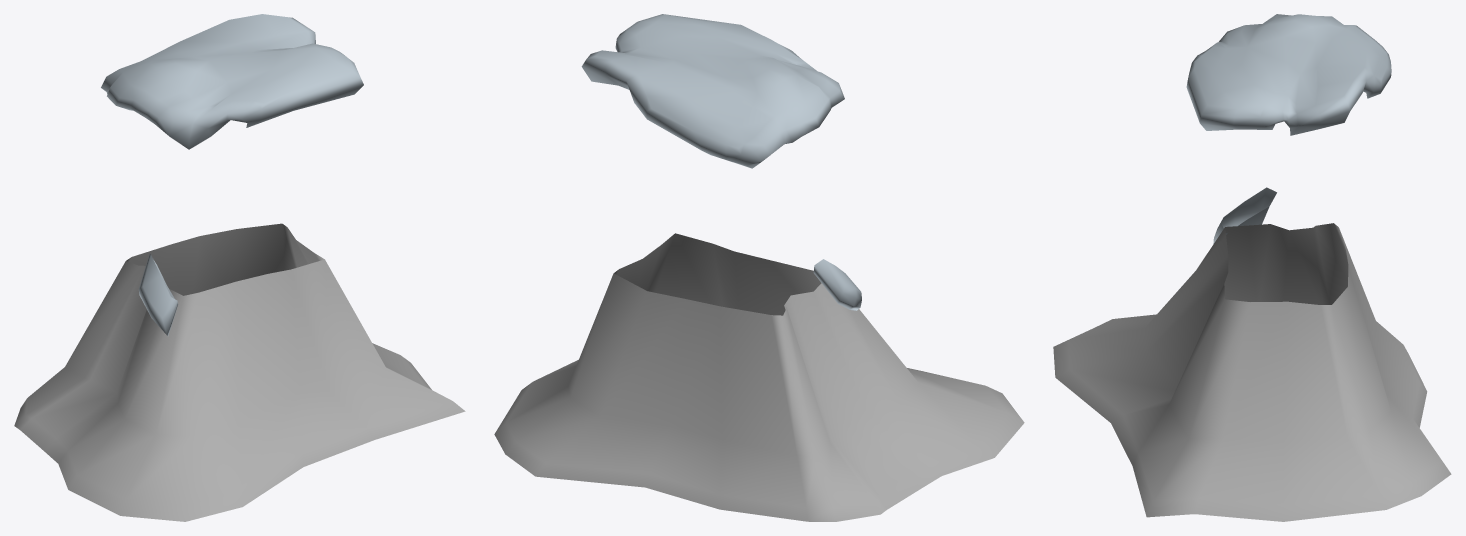
File: Rock_set_01_Model_2_Snow.fbx
The picture shows the model from 3 angles, left to right: view 1: azimuth 30°, elevation 25°; view 2: azimuth 150°, elevation 25°; view 3: azimuth 270°, elevation 25°; orthographic projection. The views are drawn at different scales.
Visible parts, largest first — view 1: polySurface2; view 2: polySurface2; view 3: polySurface2.
Boxes of the visible parts, <box> form: polySurface2: <box>14,14,465,521</box>; polySurface2: <box>494,14,1024,521</box>; polySurface2: <box>1053,14,1451,521</box>.
Bounding box in the file's own units: 279 × 243 × 230.
